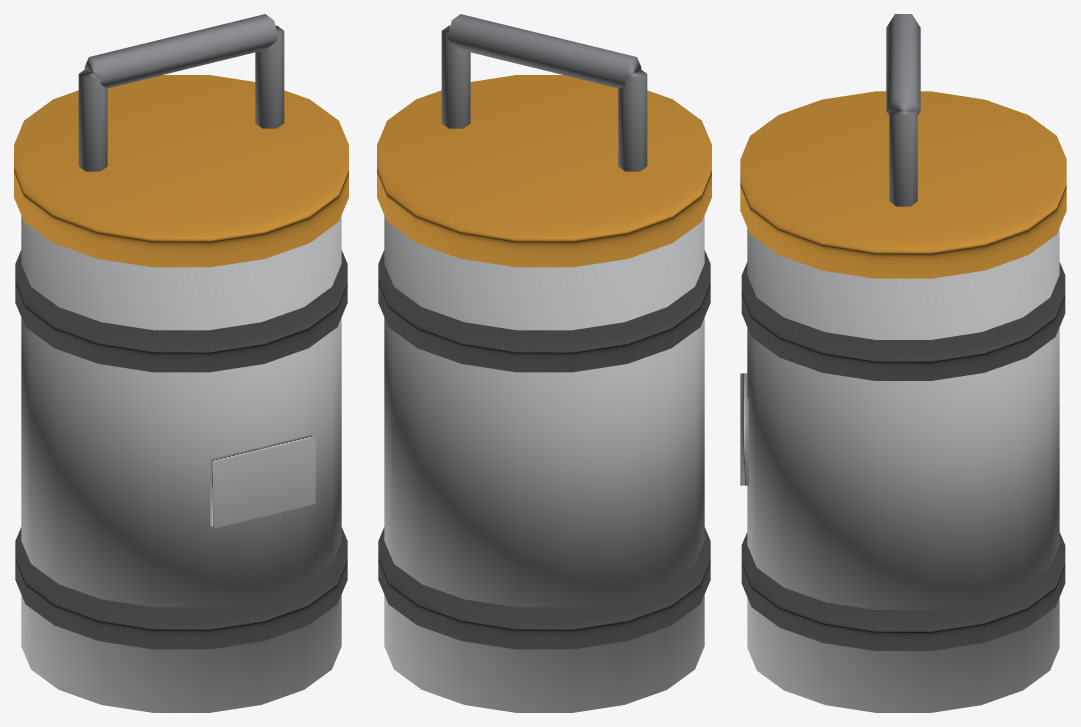
File: sample_canister.glb
3 views of the same model, side by side, from view 1: azimuth 30°, elevation 25°; view 2: azimuth 150°, elevation 25°; view 3: azimuth 270°, elevation 25° (orthographic). The views are drawn at different scales.
Visible parts, largest first — view 1: sample_canister; view 2: sample_canister; view 3: sample_canister.
Boxes of the visible parts, left/top/right/bottom form: sample_canister: left=14, top=14, right=348, bottom=712; sample_canister: left=377, top=14, right=711, bottom=712; sample_canister: left=740, top=14, right=1066, bottom=712.
Bounding box in the file's own units: 0.2265 × 0.4604 × 0.23.
